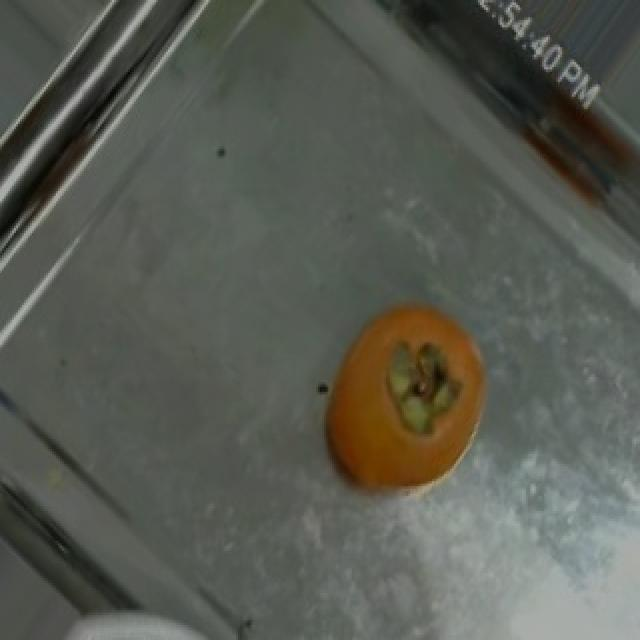Fruit: (304, 276, 510, 518)
